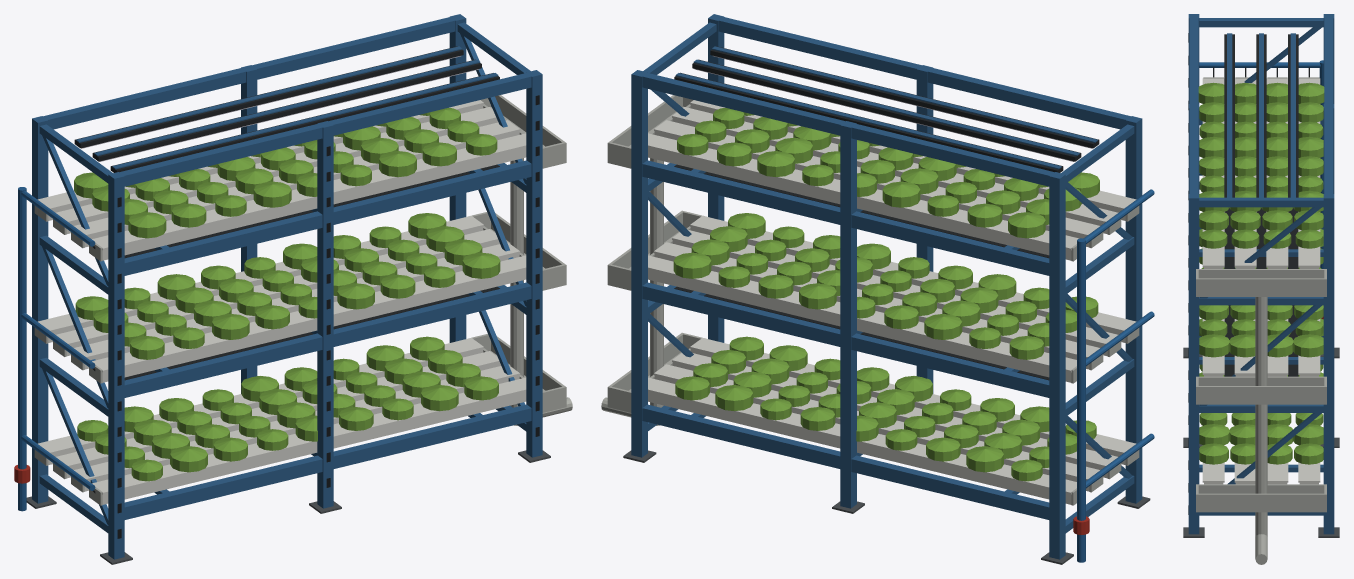
3 renders of one model, left to right at view 1: azimuth 30°, elevation 25°; view 2: azimuth 150°, elevation 25°; view 3: azimuth 270°, elevation 25°, orthographic. The views are drawn at different scales.
Visible parts, largest first — view 1: beam-2--380, beam-0--380, beam-1--380, top-beam--380, top-beam-380, upright--1200--380, upright-1200--380, upright-0--380, upright--1200-380, gutter-0-0, gutter-1-0, gutter-2-0 (+67 smaller); view 2: beam-1-380, beam-2-380, beam-0-380, top-beam-380, top-beam--380, upright--1200-380, upright-1200-380, upright-0-380, upright--1200--380, gutter-0-3, gutter-2-3, gutter-1-3 (+64 smaller); view 3: upright-1200-380, upright-1200--380, return-collector-0, return-collector-1, return-collector-2, return-drop, top-beam--380, top-beam-380, end-tie-1200-2040, end-tie--1200-2040, end-tie-1200-1430, end-tie-1200-760 (+98 smaller).
Boxes of the visible parts, box(x1,y1,x2,y2) form: beam-2--380: box(124, 160, 531, 275); beam-0--380: box(124, 404, 531, 519); beam-1--380: box(124, 282, 531, 397); top-beam--380: box(114, 72, 535, 186); top-beam-380: box(42, 16, 459, 129); upright--1200--380: box(108, 172, 124, 559); upright-1200--380: box(526, 70, 542, 457); upright-0--380: box(317, 121, 333, 508); upright--1200-380: box(32, 116, 48, 503); gutter-0-0: box(102, 391, 526, 504); gutter-1-0: box(102, 269, 526, 382); gutter-2-0: box(102, 147, 526, 260); beam-1-380: box(642, 282, 1049, 397); beam-2-380: box(642, 160, 1049, 275); beam-0-380: box(642, 404, 1049, 519); top-beam-380: box(638, 72, 1059, 186); top-beam--380: box(714, 17, 1133, 129); upright--1200-380: box(1049, 172, 1065, 559); upright-1200-380: box(631, 70, 647, 457); upright-0-380: box(840, 121, 856, 508); upright--1200--380: box(1125, 116, 1142, 503); gutter-0-3: box(648, 391, 1071, 504); gutter-2-3: box(648, 147, 1071, 260); gutter-1-3: box(648, 269, 1071, 382); upright-1200-380: box(1323, 194, 1334, 534); upright-1200--380: box(1188, 194, 1199, 534); return-collector-0: box(1196, 484, 1326, 512); return-collector-1: box(1196, 376, 1326, 404); return-collector-2: box(1196, 269, 1326, 296); return-drop: box(1255, 297, 1267, 536); top-beam--380: box(1189, 16, 1198, 195); top-beam-380: box(1324, 16, 1333, 195); end-tie-1200-2040: box(1199, 197, 1323, 207); end-tie--1200-2040: box(1199, 18, 1323, 27); end-tie-1200-1430: box(1199, 297, 1323, 305); end-tie-1200-760: box(1199, 404, 1323, 412).
Bounding box in the file's own units: 2.98 × 2.1 × 0.88.
